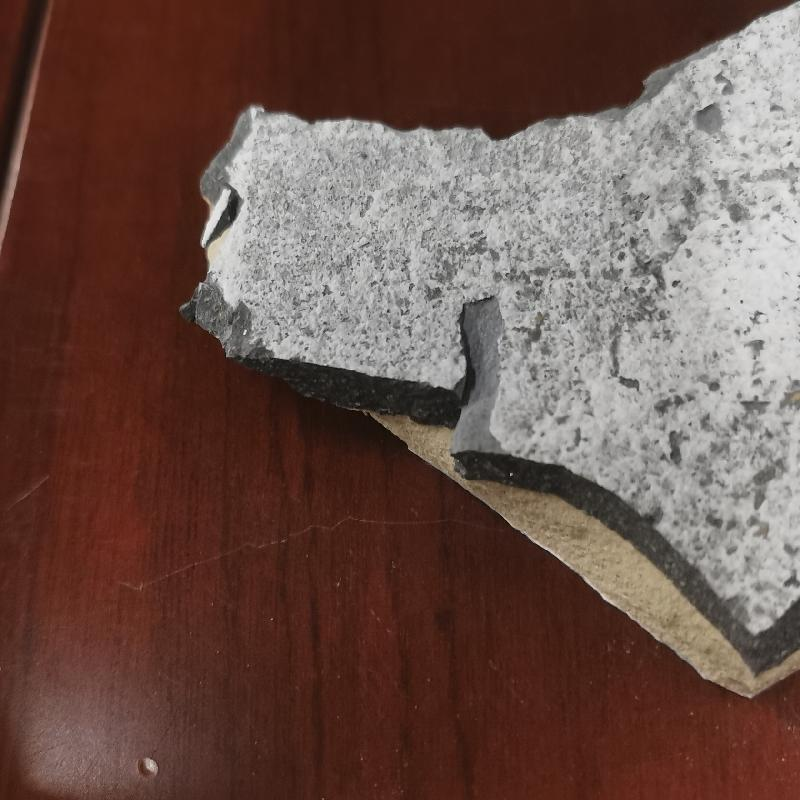tile: (179, 0, 799, 700)
